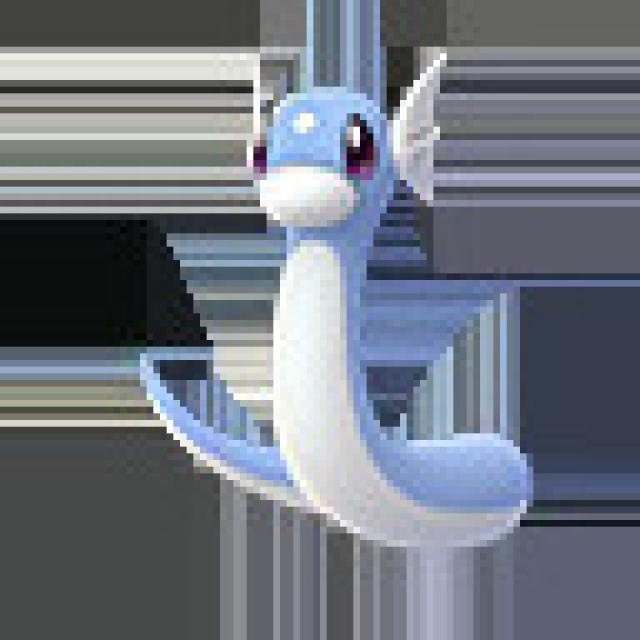Dratini: (243, 60, 528, 552)
